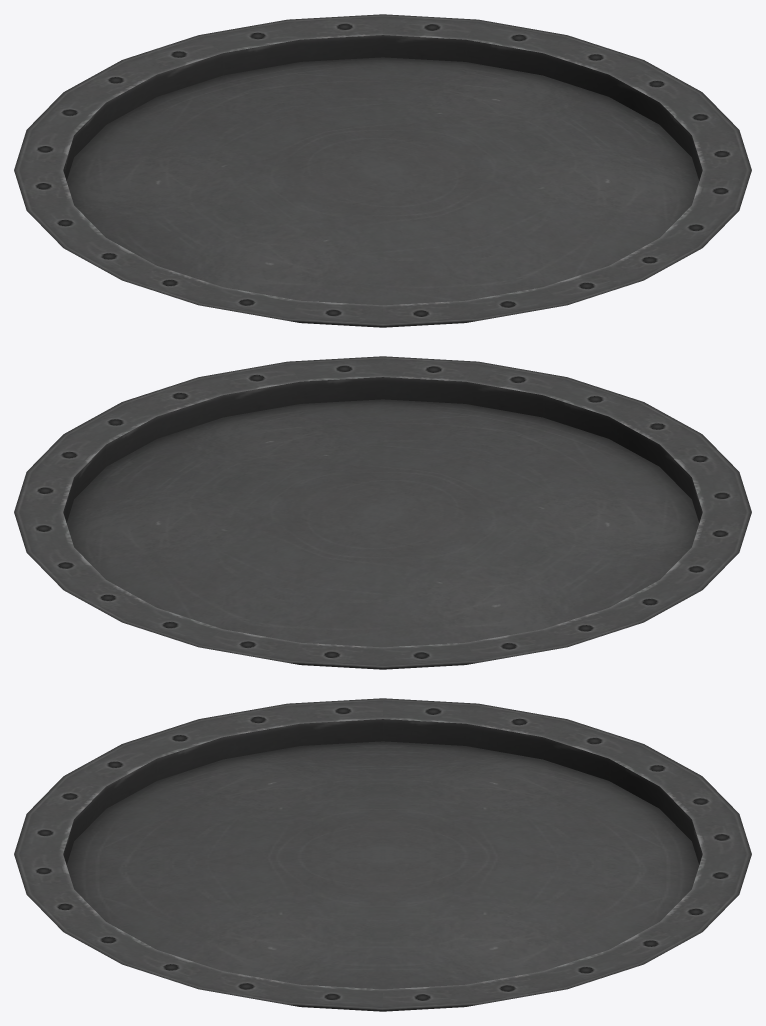
Rendered from end_basic_s1p5.obj.
3 renders of one model, top to bottom at view 1: azimuth 30°, elevation 25°; view 2: azimuth 150°, elevation 25°; view 3: azimuth 270°, elevation 25°, orthographic.
Parts seen in each view (by area): view 1: end; view 2: end; view 3: end.
Part boxes in pixels (bbox=[...]): end: bbox=[14, 14, 751, 327]; end: bbox=[14, 356, 751, 669]; end: bbox=[14, 698, 751, 1011].
Bounding box in the file's own units: 1.88 × 0.0625 × 1.88.
